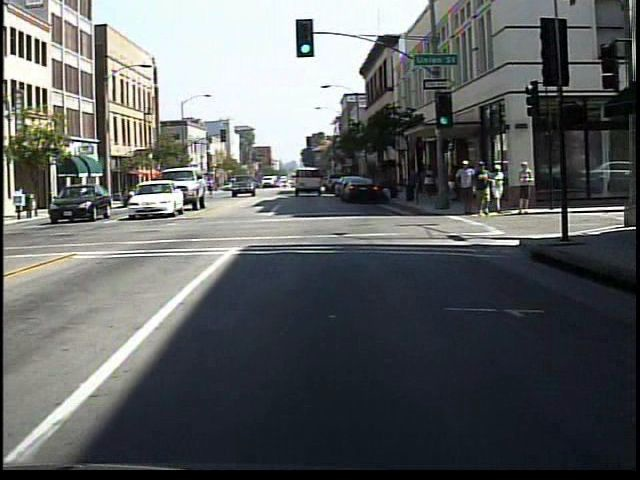person: (472, 159, 496, 220), (514, 157, 538, 218), (454, 158, 478, 216), (491, 161, 508, 214), (422, 160, 440, 205), (203, 174, 221, 202)
